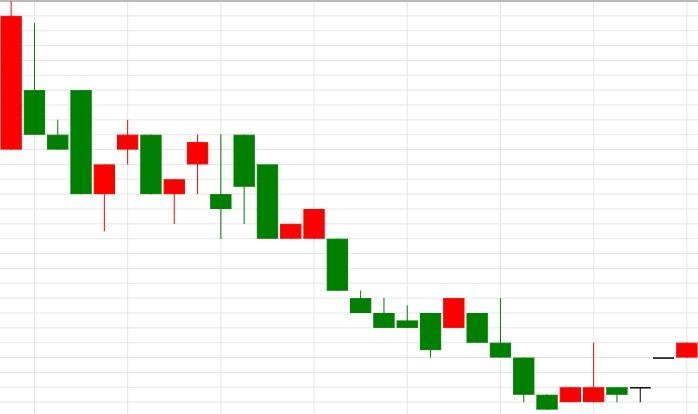hammer_rise: (116, 119, 186, 225)
inverse_hammer_rise: (442, 298, 605, 410)
